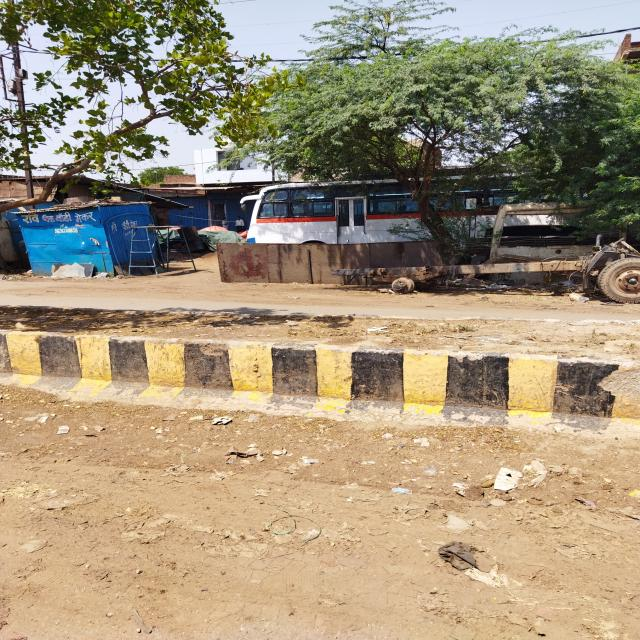Bus: (242, 179, 430, 244), (432, 169, 517, 240)
